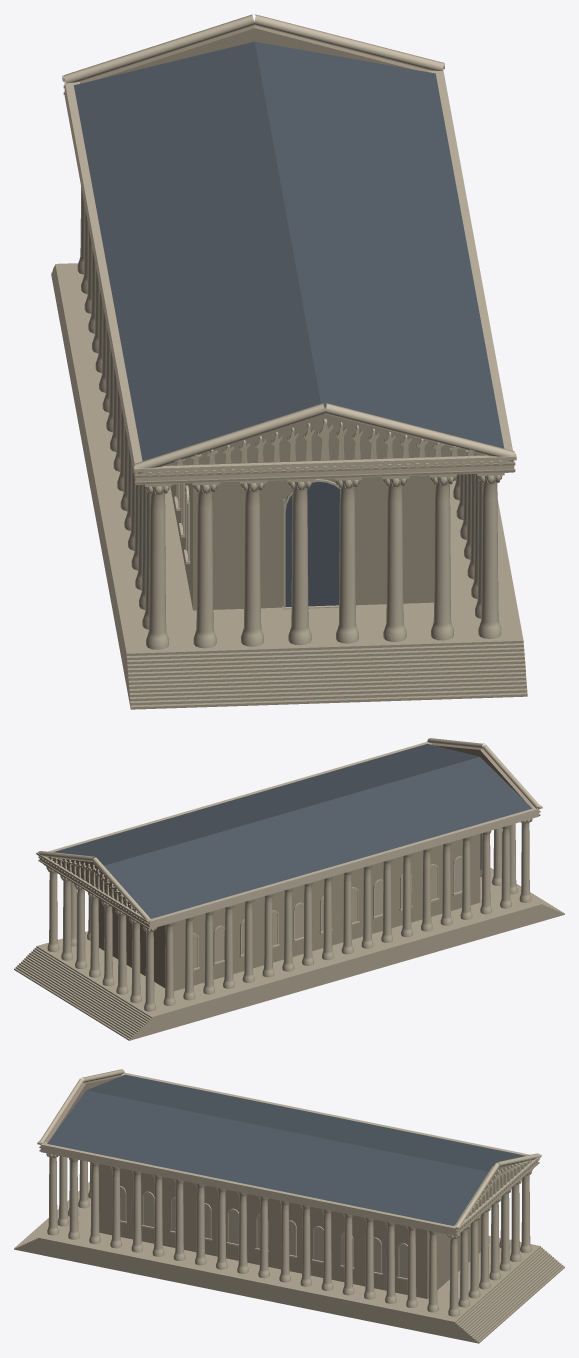
Rendered from paris-madeleine-near.glb.
3 renders of one model, top to bottom at view 1: azimuth 30°, elevation 25°; view 2: azimuth 150°, elevation 25°; view 3: azimuth 270°, elevation 25°, orthographic. The views are drawn at different scales.
Visible parts, largest first — view 1: paris-madeleine-0-roof, paris-madeleine-0-stone, paris-madeleine-0-steps, paris-madeleine-0-shade; view 2: paris-madeleine-0-roof, paris-madeleine-0-stone, paris-madeleine-0-steps, paris-madeleine-0-shade; view 3: paris-madeleine-0-roof, paris-madeleine-0-stone, paris-madeleine-0-steps, paris-madeleine-0-shade.
Part boxes in pixels (bbox=[...]): paris-madeleine-0-roof: bbox=[74, 41, 504, 606]; paris-madeleine-0-stone: bbox=[62, 14, 516, 649]; paris-madeleine-0-steps: bbox=[51, 263, 527, 709]; paris-madeleine-0-shade: bbox=[63, 25, 515, 610]; paris-madeleine-0-roof: bbox=[53, 744, 531, 918]; paris-madeleine-0-stone: bbox=[36, 738, 542, 1011]; paris-madeleine-0-steps: bbox=[14, 857, 564, 1040]; paris-madeleine-0-shade: bbox=[38, 744, 540, 991]; paris-madeleine-0-roof: bbox=[47, 1074, 525, 1225]; paris-madeleine-0-stone: bbox=[37, 1069, 541, 1316]; paris-madeleine-0-steps: bbox=[14, 1181, 564, 1343]; paris-madeleine-0-shade: bbox=[39, 1075, 539, 1298].
Bounding box in the file's own units: 86.87 × 32.9 × 119.
